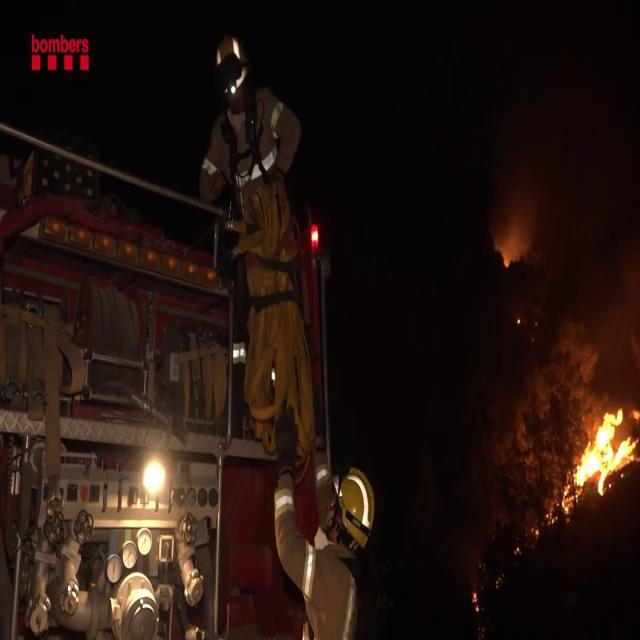Fire: (566, 404, 640, 498)
